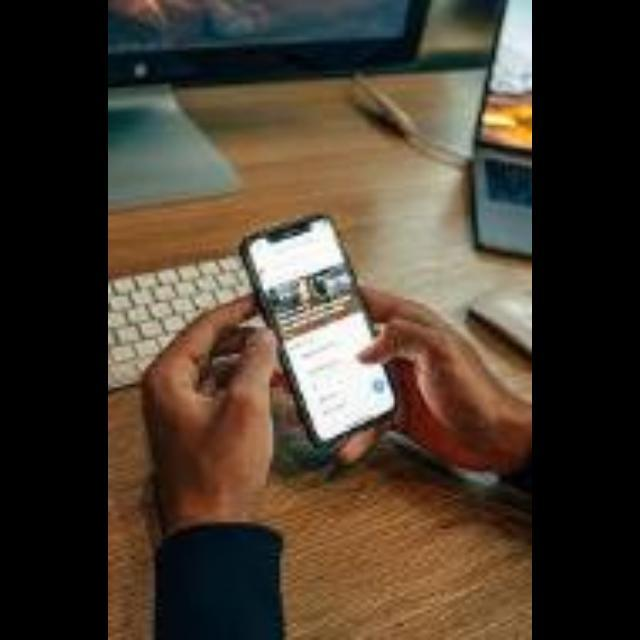Phone: (242, 216, 412, 438)
